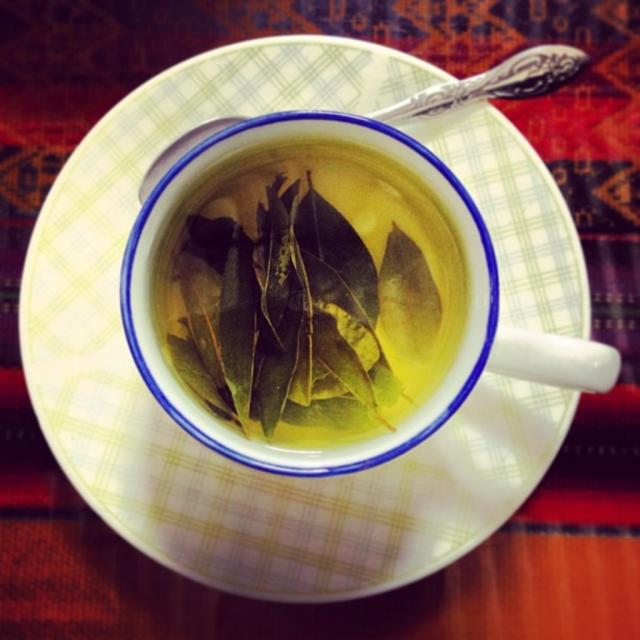Tea: (147, 148, 472, 446)
